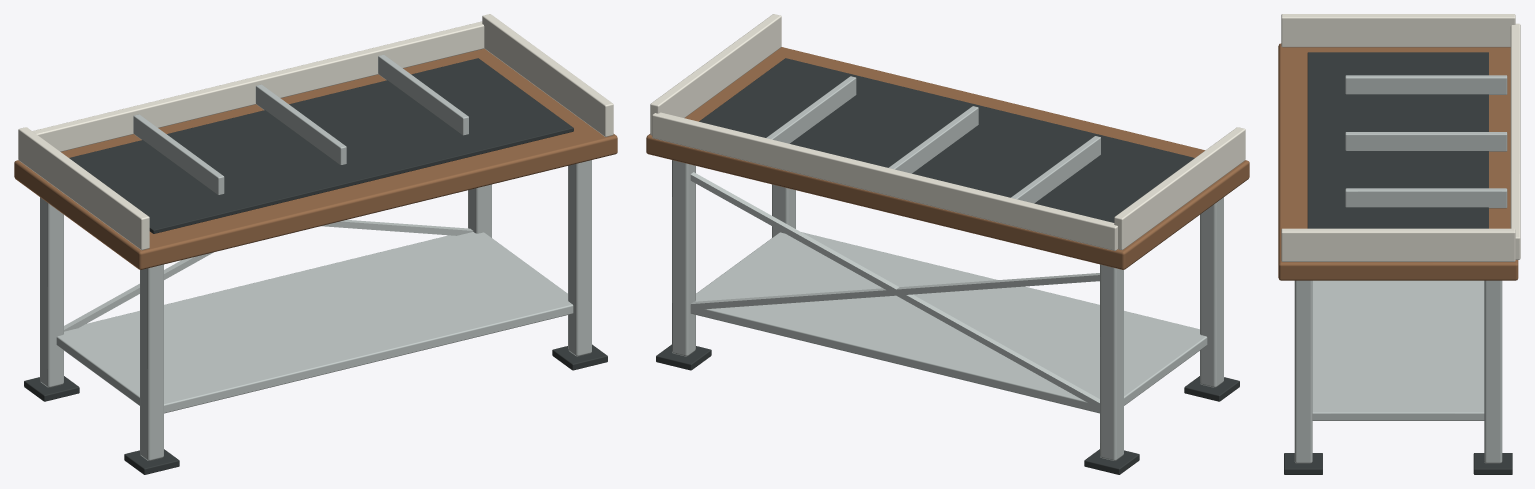
File: tea-garden-and-processing-house-tea-garden-and-process-df666c2d__30780.glb
The picture shows the model from 3 angles, left to right: view 1: azimuth 30°, elevation 25°; view 2: azimuth 150°, elevation 25°; view 3: azimuth 270°, elevation 25°; orthographic projection. The views are drawn at different scales.
Visible parts, largest first — view 1: tea-garden-and-processing-house-tea-sorting-table; view 2: tea-garden-and-processing-house-tea-sorting-table; view 3: tea-garden-and-processing-house-tea-sorting-table.
Boxes of the visible parts, x1=… form: tea-garden-and-processing-house-tea-sorting-table: x1=14, y1=14, x2=617, y2=474; tea-garden-and-processing-house-tea-sorting-table: x1=646, y1=14, x2=1249, y2=474; tea-garden-and-processing-house-tea-sorting-table: x1=1278, y1=14, x2=1520, y2=474.
Size of the model in its own units: 1.88 by 0.97 by 0.8674.
